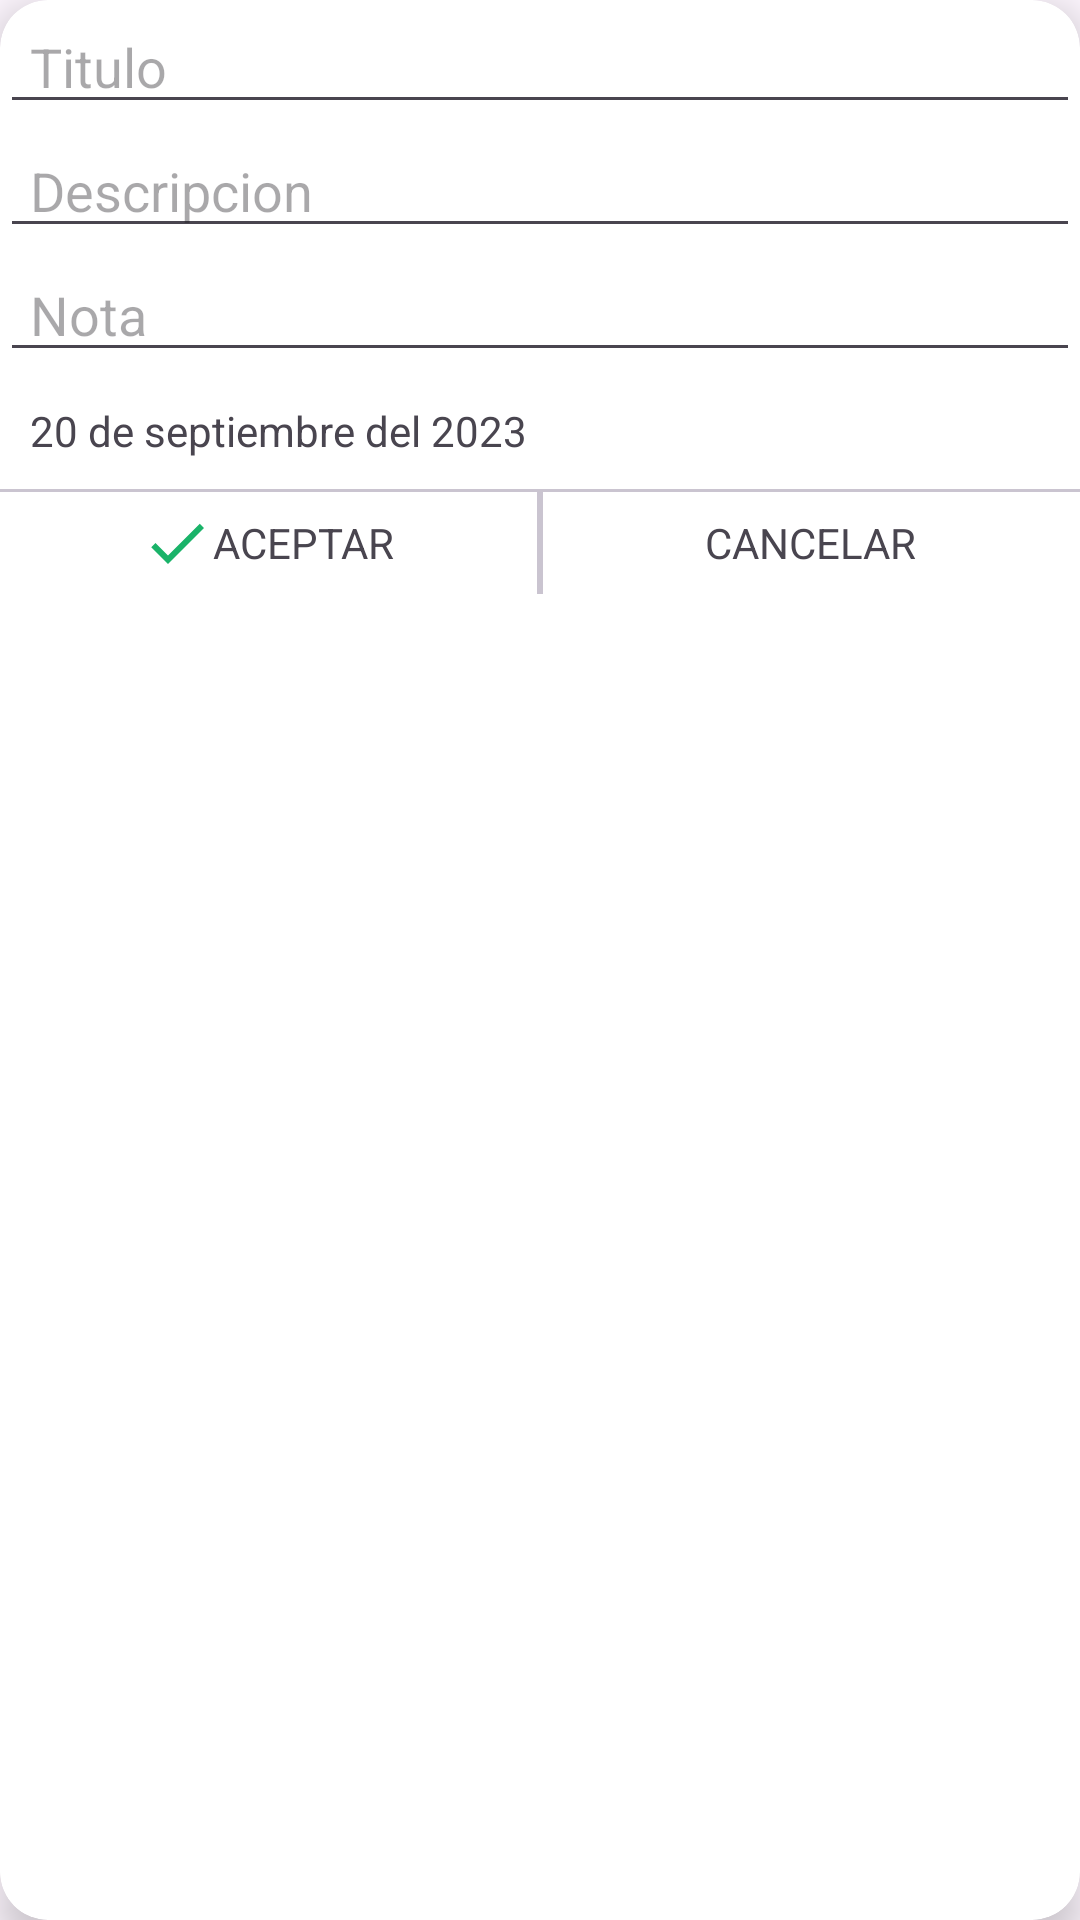

Named icons in this screenshot (1080x1920) and their centers, (x=x, y=y):
check: (x=177, y=544)
